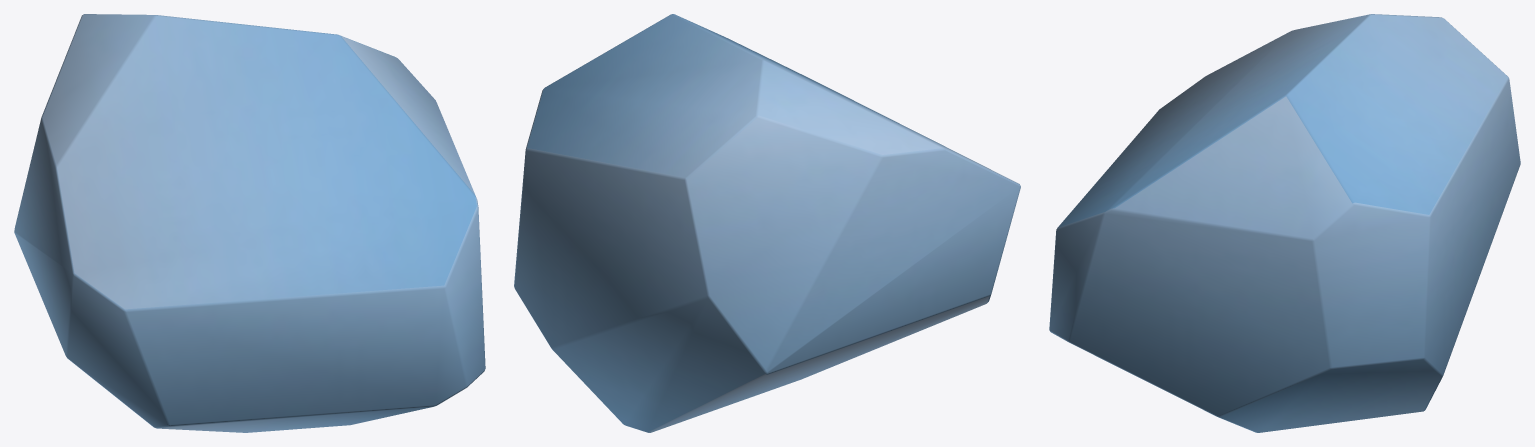
File: Rock2.fbx
3 views of the same model, side by side, from view 1: azimuth 30°, elevation 25°; view 2: azimuth 150°, elevation 25°; view 3: azimuth 270°, elevation 25° (orthographic). The views are drawn at different scales.
Parts seen in each view (by area): view 1: Rock3_2; view 2: Rock3_2; view 3: Rock3_2.
Part boxes in pixels (bbox=[...]): Rock3_2: bbox=[14, 14, 485, 432]; Rock3_2: bbox=[514, 14, 1020, 432]; Rock3_2: bbox=[1049, 14, 1520, 432].
Bounding box in the file's own units: 0.6516 × 0.5496 × 0.6768.
